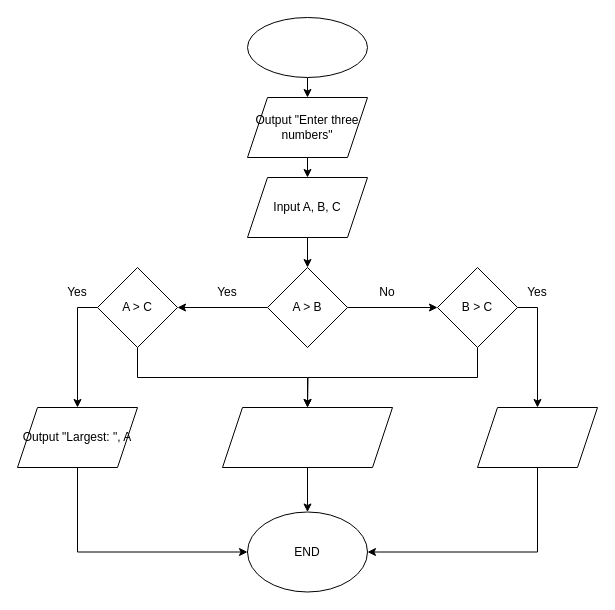
Image size: 615x610. Some labels were removed from this diagram. The shapes that lost their labels are listed below. From the top down, each one's centre as x and y in pixels, then its label:
[307,47]: Start
[307,437]: Output "Largest: ", B
[537,437]: Output "Largest: ", C
